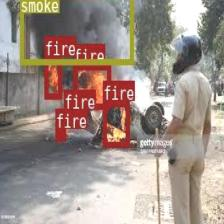fire: (72, 62, 110, 108), (102, 100, 128, 146), (44, 56, 61, 98), (63, 109, 71, 124), (55, 129, 65, 140)
smoke: (19, 0, 133, 63)
